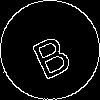B: (25, 25, 75, 81)
